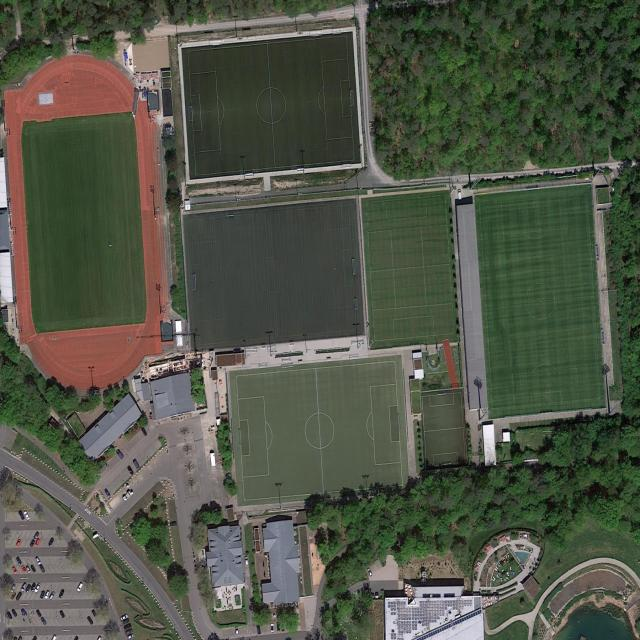small-vehicle: (34, 581, 42, 594), (76, 581, 84, 594), (23, 511, 31, 522), (126, 466, 134, 477), (47, 536, 55, 547), (120, 613, 129, 622), (116, 450, 124, 460), (9, 583, 17, 593), (20, 582, 28, 592), (133, 459, 140, 470), (18, 510, 25, 521), (87, 615, 94, 626), (30, 581, 37, 592), (15, 591, 23, 600), (141, 427, 148, 437), (104, 488, 111, 498), (49, 591, 56, 601), (34, 538, 41, 548), (11, 608, 18, 618), (35, 609, 42, 619), (10, 590, 17, 600), (20, 564, 27, 574), (367, 567, 373, 578), (25, 582, 31, 593), (35, 557, 42, 566), (21, 607, 28, 616), (39, 590, 46, 599), (11, 565, 18, 574), (44, 590, 50, 600), (33, 530, 39, 540), (59, 609, 65, 619), (41, 616, 47, 626), (16, 556, 22, 566), (125, 628, 133, 635), (256, 624, 261, 635), (7, 611, 13, 620), (59, 589, 65, 598), (16, 539, 22, 548), (25, 565, 31, 574), (30, 564, 36, 573), (124, 623, 131, 630), (39, 565, 46, 572), (169, 521, 177, 527), (457, 189, 461, 201), (91, 609, 97, 617), (244, 556, 248, 567), (123, 618, 129, 625), (127, 634, 134, 640), (276, 622, 280, 632), (270, 623, 274, 633), (30, 539, 35, 547), (235, 627, 239, 635)
